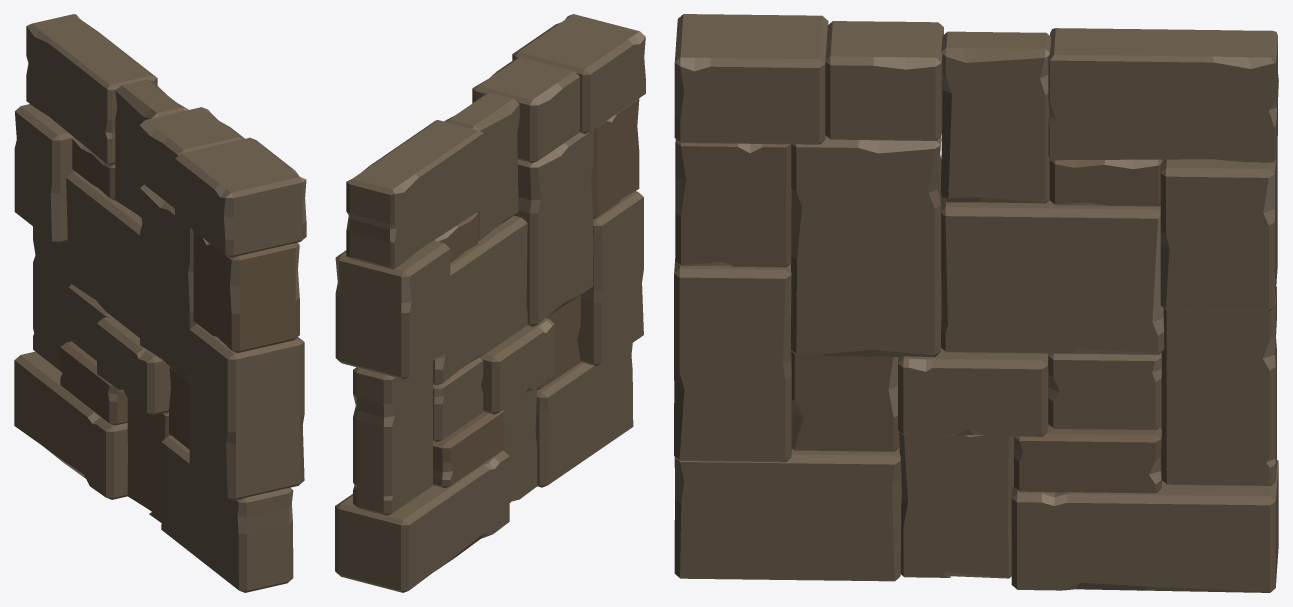
File: entrada_wall_east_1_lev3.glb
The picture shows the model from 3 angles, left to right: view 1: azimuth 30°, elevation 25°; view 2: azimuth 150°, elevation 25°; view 3: azimuth 270°, elevation 25°; orthographic projection. The views are drawn at different scales.
Parts seen in each view (by area): view 1: entrada_wall_east_1_lev3; view 2: entrada_wall_east_1_lev3; view 3: entrada_wall_east_1_lev3.
Boxes of the visible parts, x1,y1,x2,y2 form: entrada_wall_east_1_lev3: (14,14,306,592); entrada_wall_east_1_lev3: (335,14,645,592); entrada_wall_east_1_lev3: (674,14,1278,592).
Bounding box in the file's own units: 1.37 × 5.94 × 6.14.
